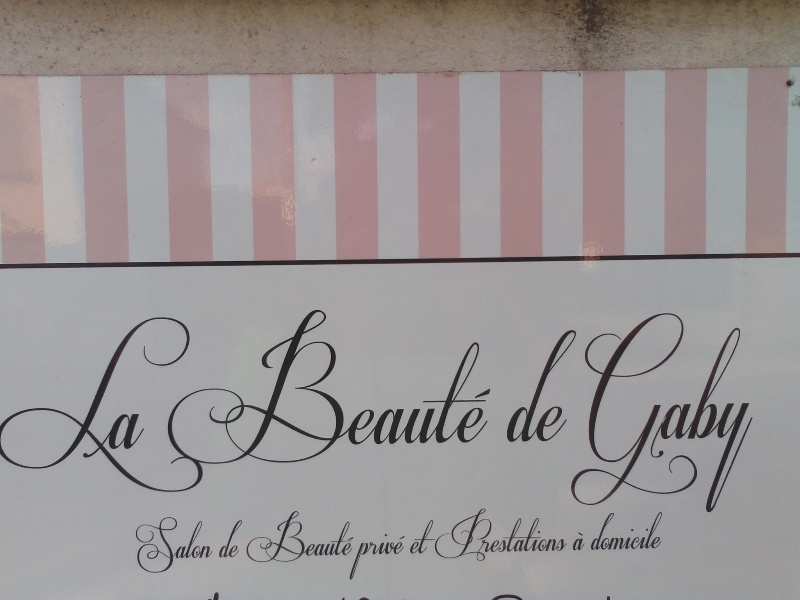text: (593, 304, 608, 513), (609, 304, 624, 513), (625, 304, 640, 513), (641, 304, 656, 513), (657, 304, 672, 513), (673, 304, 688, 513), (689, 304, 704, 513), (705, 304, 720, 513), (721, 304, 736, 513), (737, 304, 752, 513), (753, 304, 768, 513), (1, 310, 16, 494), (17, 310, 32, 494), (33, 310, 48, 494), (49, 310, 64, 494), (65, 310, 80, 494), (81, 310, 96, 494), (97, 310, 112, 494), (113, 310, 128, 494), (129, 310, 144, 494), (145, 310, 160, 494), (161, 310, 176, 494), (177, 310, 192, 494), (177, 307, 192, 475), (193, 307, 208, 475), (209, 307, 224, 475), (225, 307, 240, 475), (241, 307, 256, 475), (257, 307, 272, 475), (273, 307, 288, 475), (289, 307, 304, 475), (305, 307, 320, 475), (321, 307, 336, 475), (337, 307, 352, 475), (353, 307, 368, 475), (369, 307, 384, 475), (385, 307, 400, 475), (401, 307, 416, 475), (417, 307, 432, 475), (433, 307, 448, 475), (449, 307, 464, 475), (465, 307, 480, 475), (193, 310, 206, 494), (481, 307, 494, 475), (513, 328, 528, 443), (529, 328, 544, 443), (545, 328, 560, 443), (561, 328, 576, 443), (769, 304, 774, 513), (145, 517, 160, 574), (161, 517, 176, 574), (177, 517, 192, 574), (193, 517, 208, 574), (257, 510, 272, 564), (273, 510, 288, 564), (289, 510, 304, 564), (305, 510, 320, 564), (321, 510, 336, 564), (337, 510, 352, 564), (449, 507, 464, 561), (465, 507, 480, 561), (481, 507, 496, 561), (497, 507, 512, 561), (513, 507, 528, 561), (529, 507, 544, 561), (545, 507, 560, 561), (369, 532, 384, 581), (385, 532, 400, 581), (609, 511, 624, 554), (625, 511, 640, 554), (641, 511, 656, 554), (657, 511, 672, 554), (133, 517, 144, 574), (353, 510, 364, 564), (225, 519, 240, 558), (561, 507, 570, 561), (508, 328, 512, 443), (420, 519, 432, 556), (401, 532, 410, 581), (209, 517, 215, 574), (577, 530, 590, 553), (433, 519, 441, 556), (591, 304, 592, 513), (364, 532, 368, 581), (604, 511, 608, 554), (175, 307, 176, 475), (673, 511, 676, 554), (221, 519, 224, 558), (577, 328, 578, 443), (254, 510, 256, 564), (241, 519, 243, 558), (447, 507, 448, 561), (574, 530, 576, 553)
